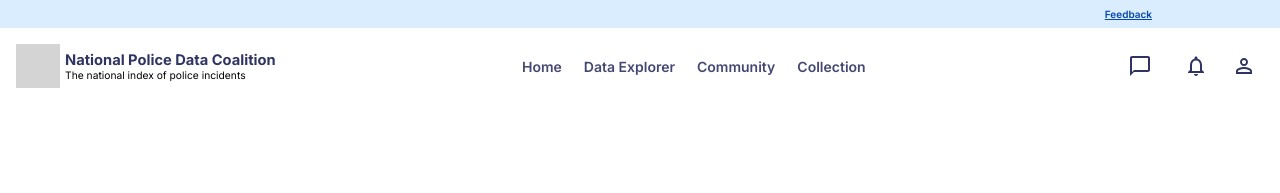
Nav renders the Profile button and Logout menu item when logged in
# Click profile button to open menu
Click the button with test id "profile-button" at (1244,66), box [1224, 46, 1264, 86]
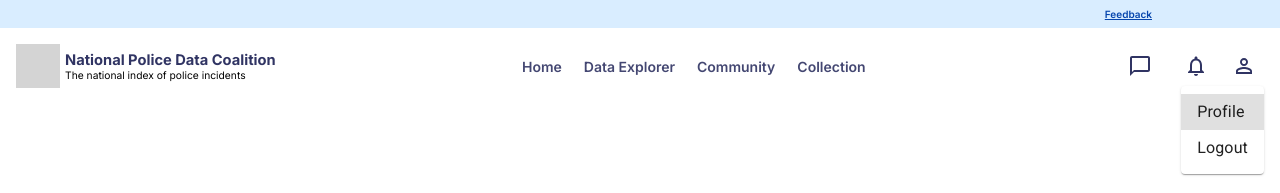
Check: the menu item "Logout" is shown, box [1197, 138, 1248, 157]
